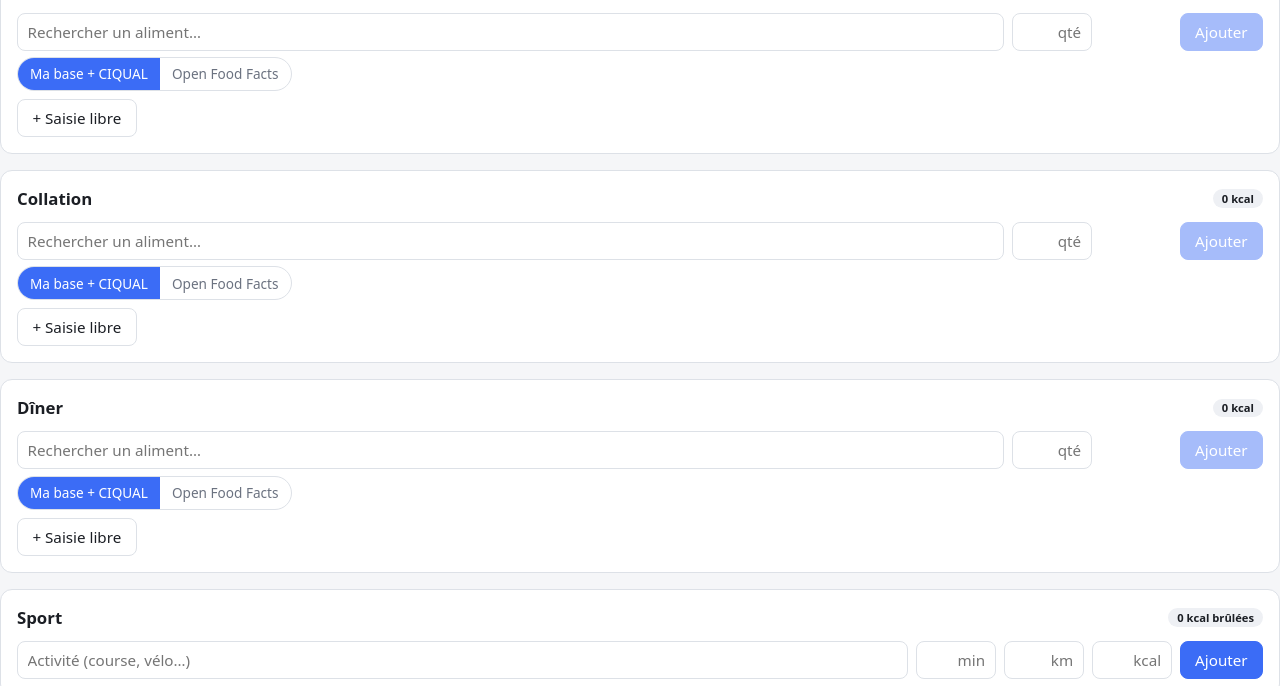
Journal › ajoute une saisie libre puis annule une seconde
(page scrolled)
Check: the heading "Dîner" is shown, box x1=17 y1=396 x2=63 y2=419
Click the button "+ Saisie libre" below "Dîner" at point(77, 537), box x1=17 y1=518 x2=137 y2=556
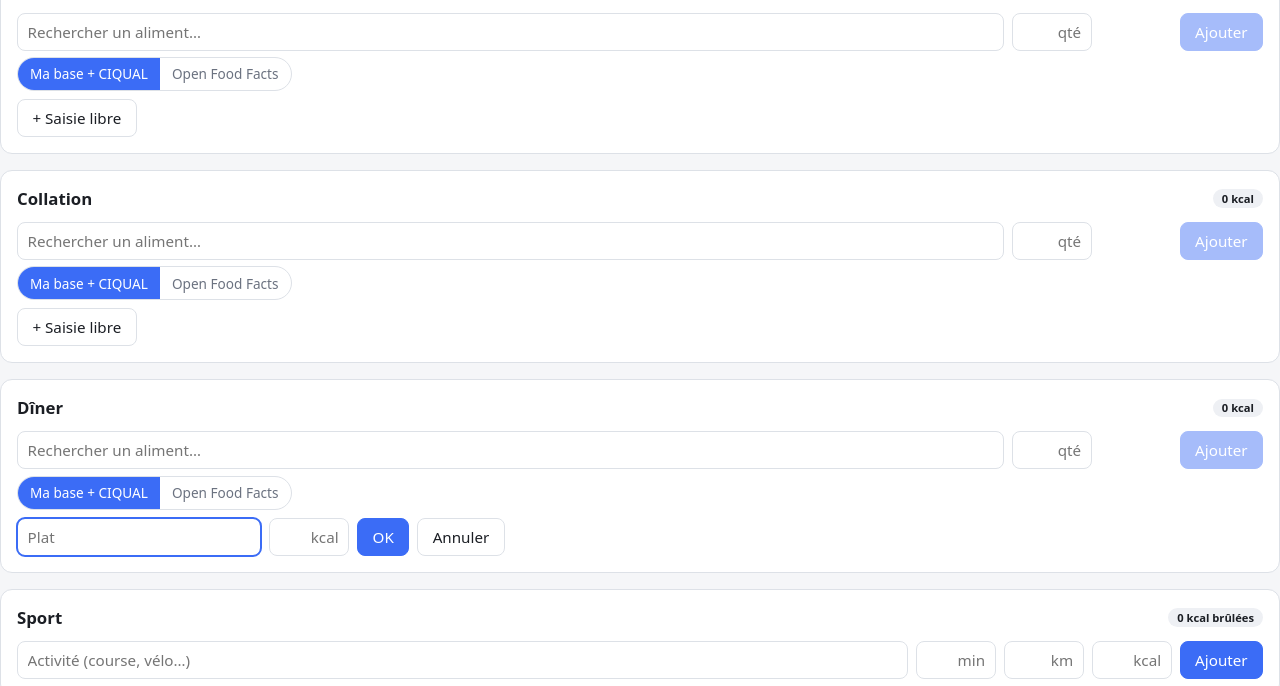
Type "Restaurant" into the field with placeholder "Plat" at point(139, 537), box x1=17 y1=518 x2=261 y2=556
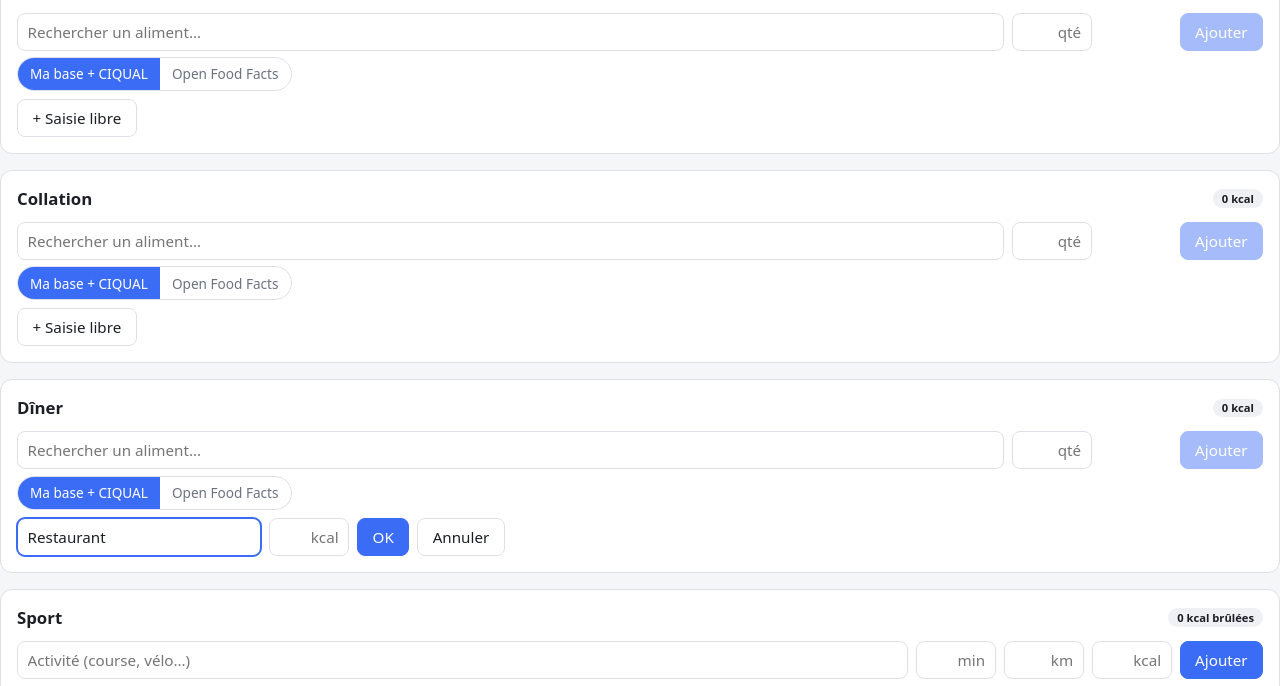
Type "800" into the field with placeholder "kcal" below "Dîner" at point(309, 537), box x1=269 y1=518 x2=349 y2=556
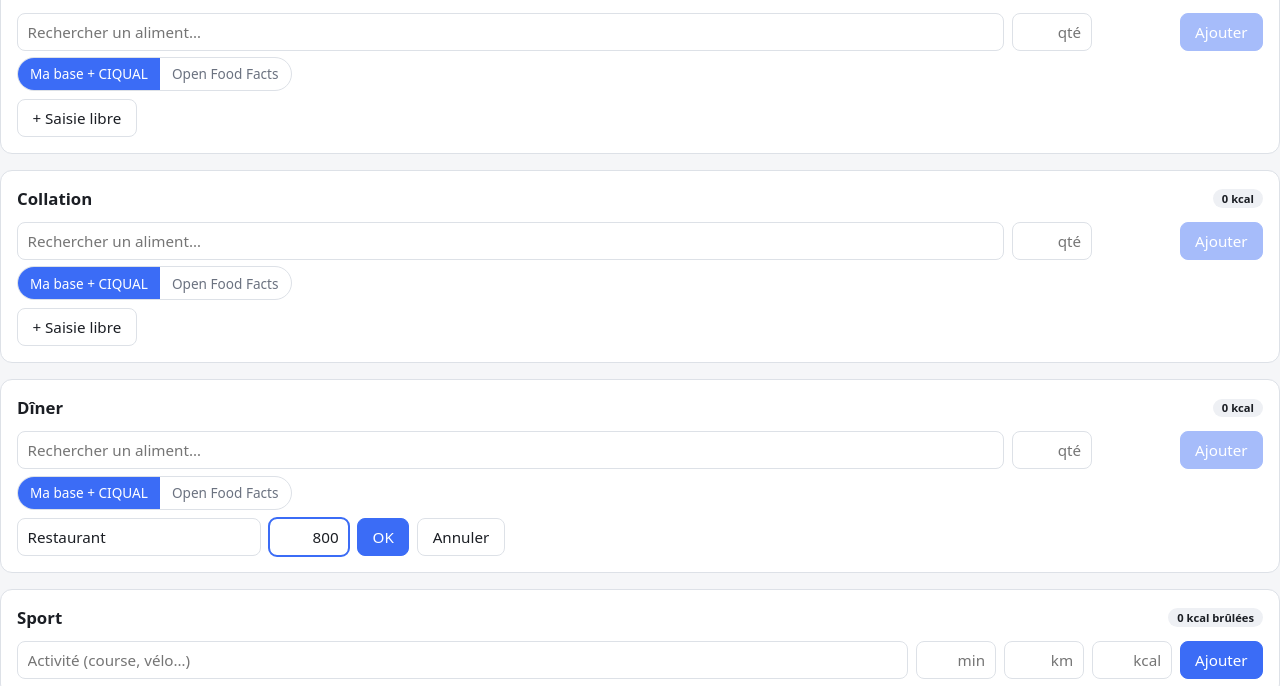
Click the button "OK" at point(383, 537), box x1=357 y1=518 x2=409 y2=556
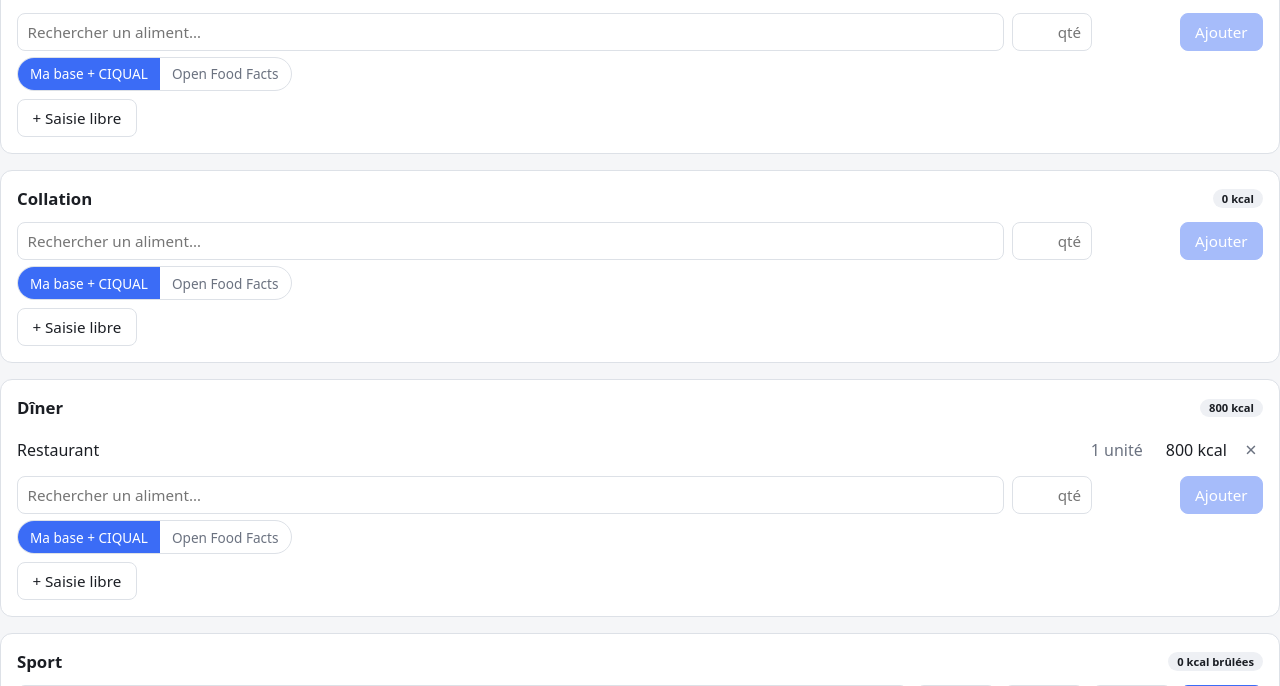
Click the button "+ Saisie libre" below "Restaurant" at point(77, 581), box x1=17 y1=562 x2=137 y2=600
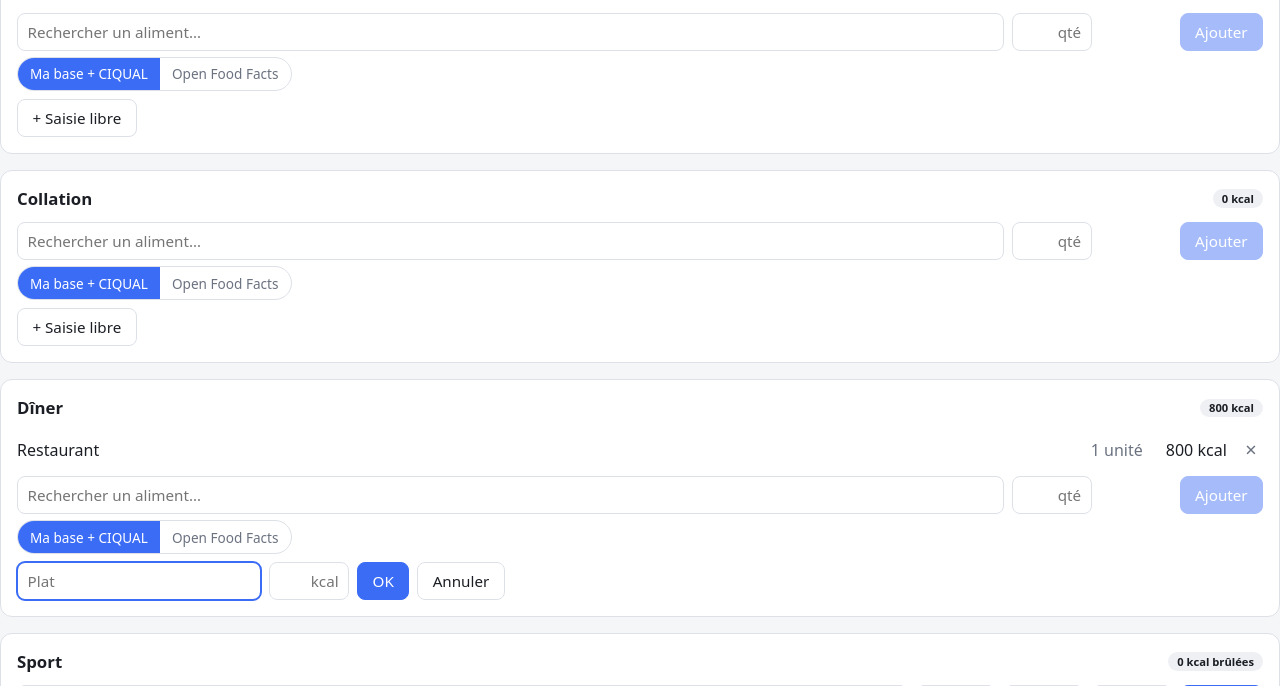
Click the button "Annuler" at point(461, 581), box x1=417 y1=562 x2=505 y2=600
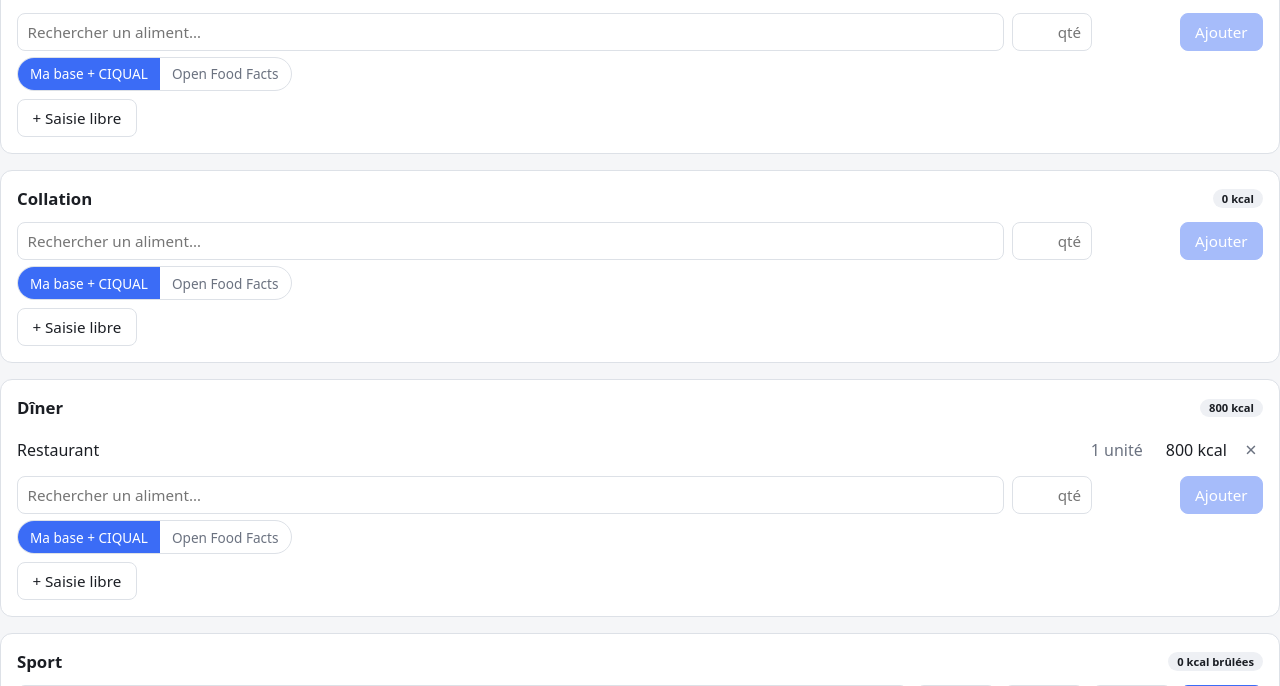
Check: the button "+ Saisie libre" below "Restaurant" is shown, box x1=17 y1=562 x2=137 y2=600
